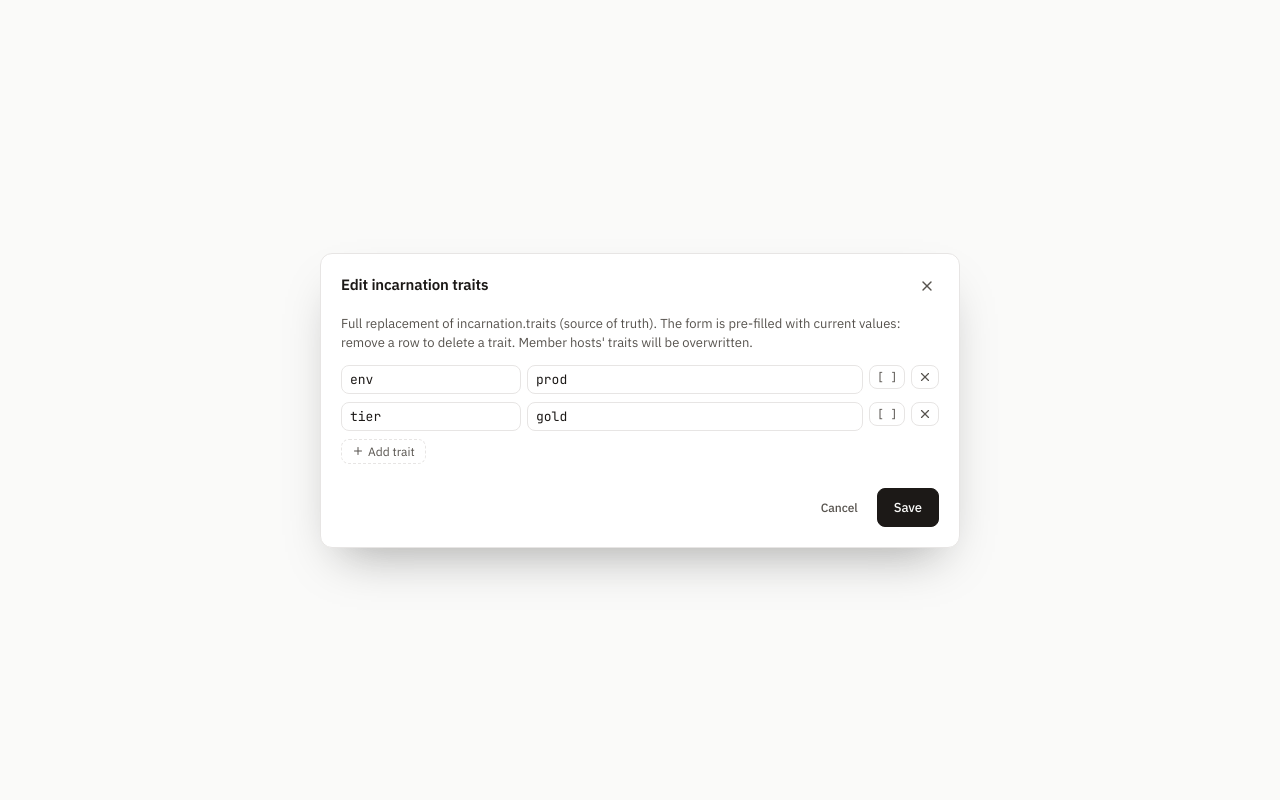
Test: IncarnationTraitsModal › adding a trait keeps prefilled values in the PUT (full set)
Click the button with test id "traits-add-row" at (383,451), box [341,438,426,464]
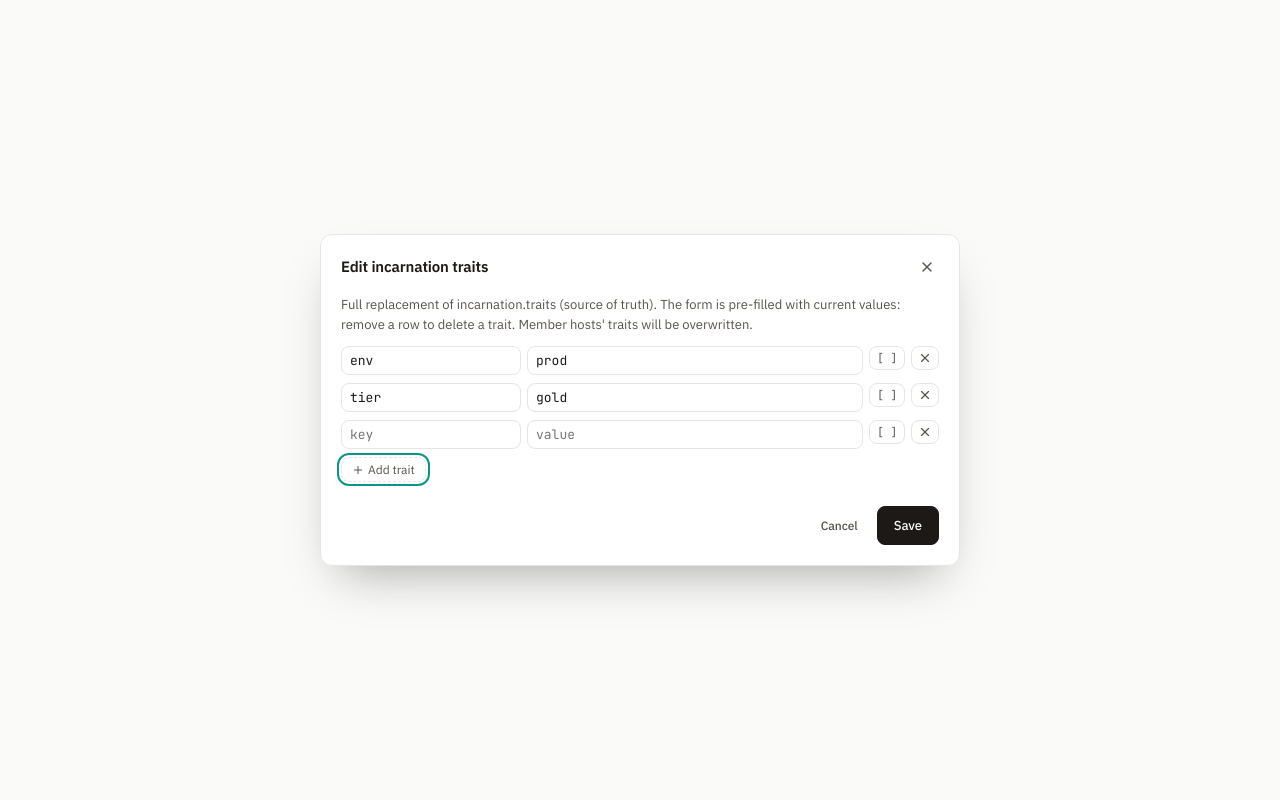
Type "owner" into the field named "trait key" at (431,434), box [341,420,521,449]
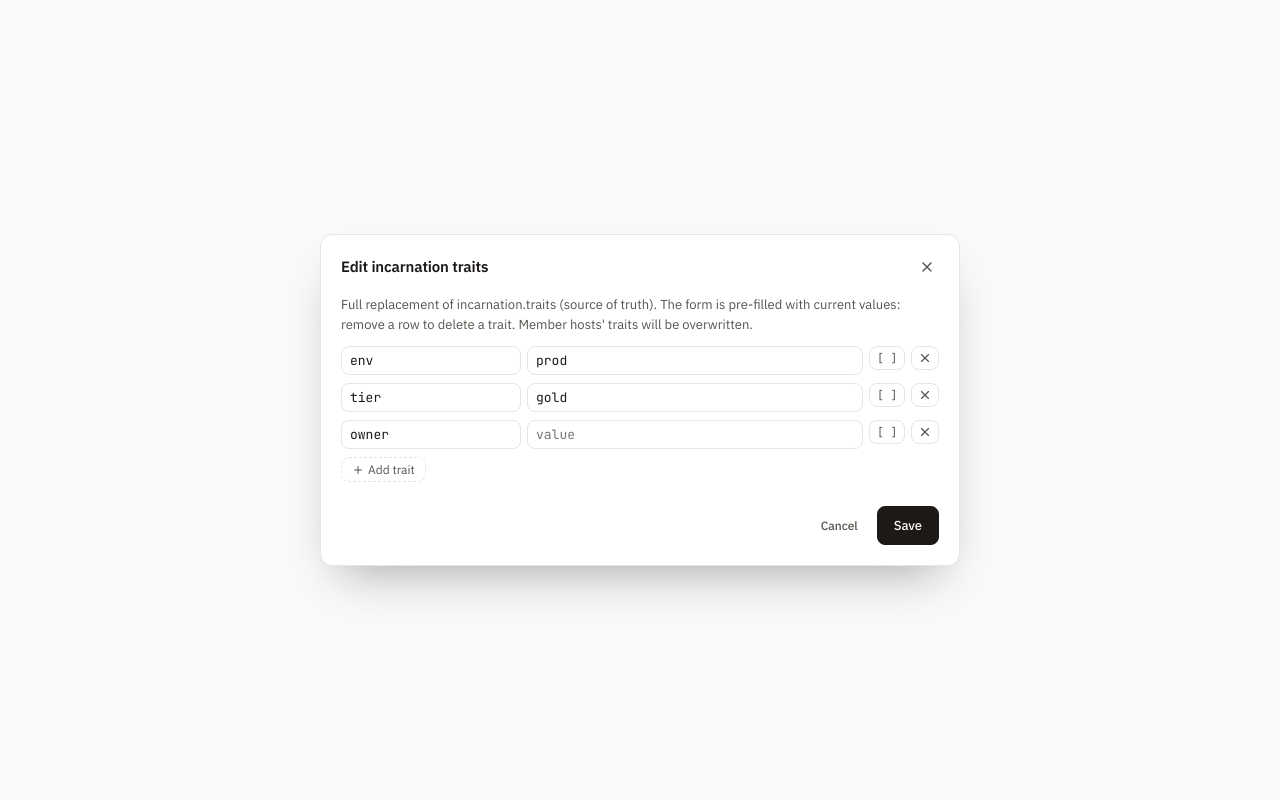
Type "core" into the field named "trait value" at (695,434), box [527,420,863,449]
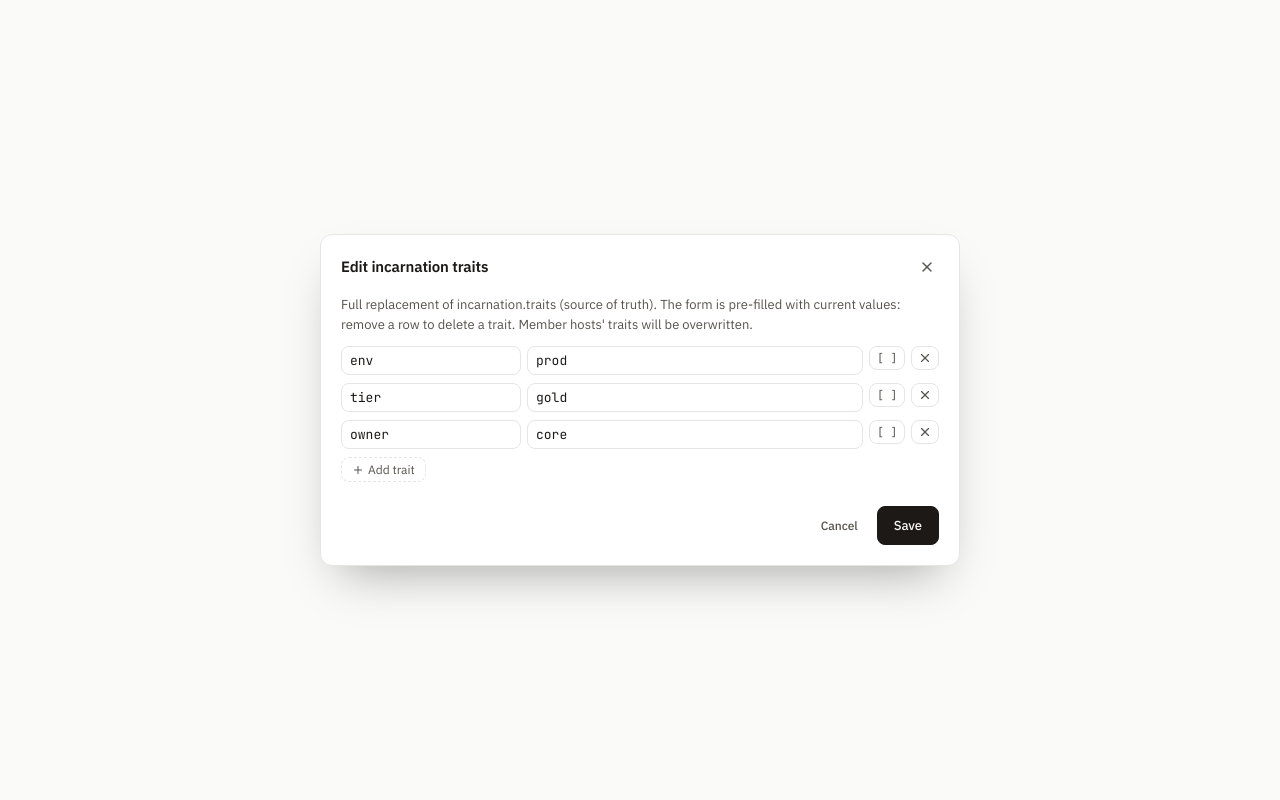
Click the button "Save" at (908,526), box [877,506,939,545]
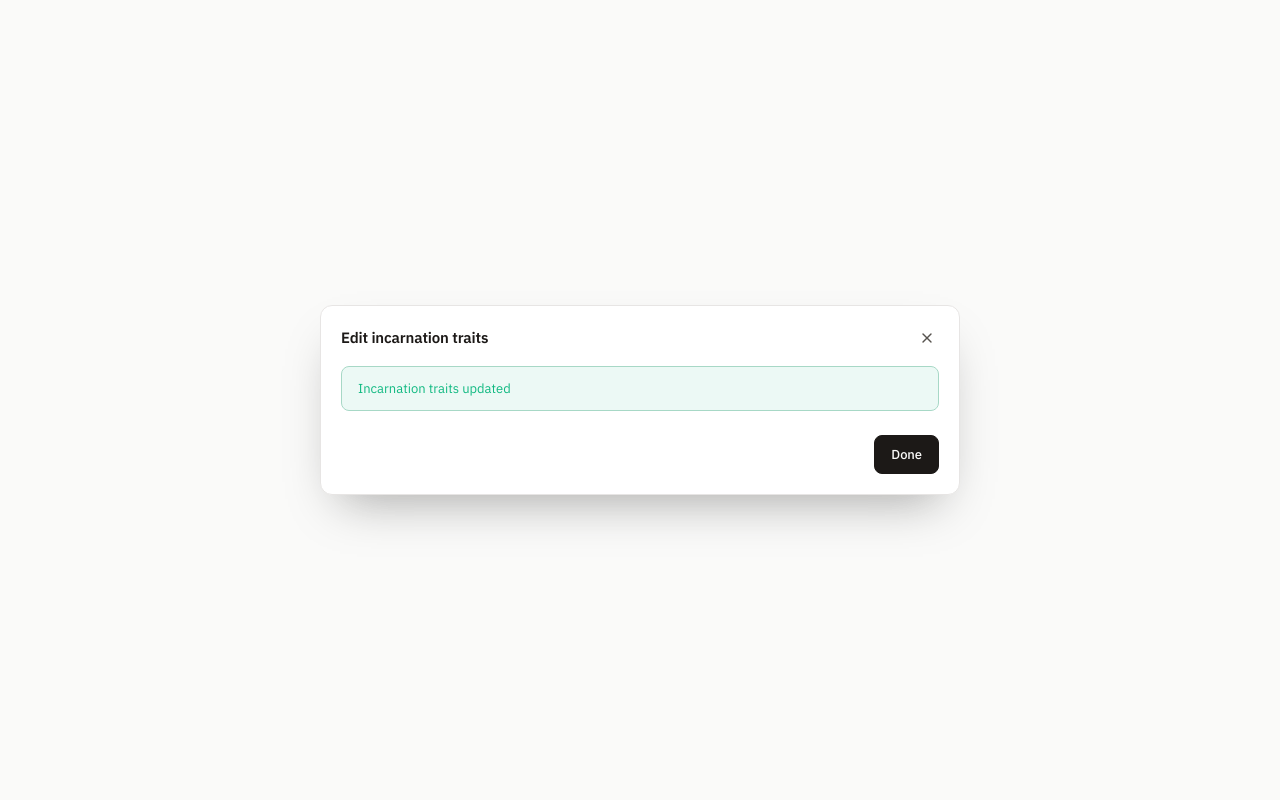
Now the text "Incarnation traits updated" is shown, box [341,366,939,411]
